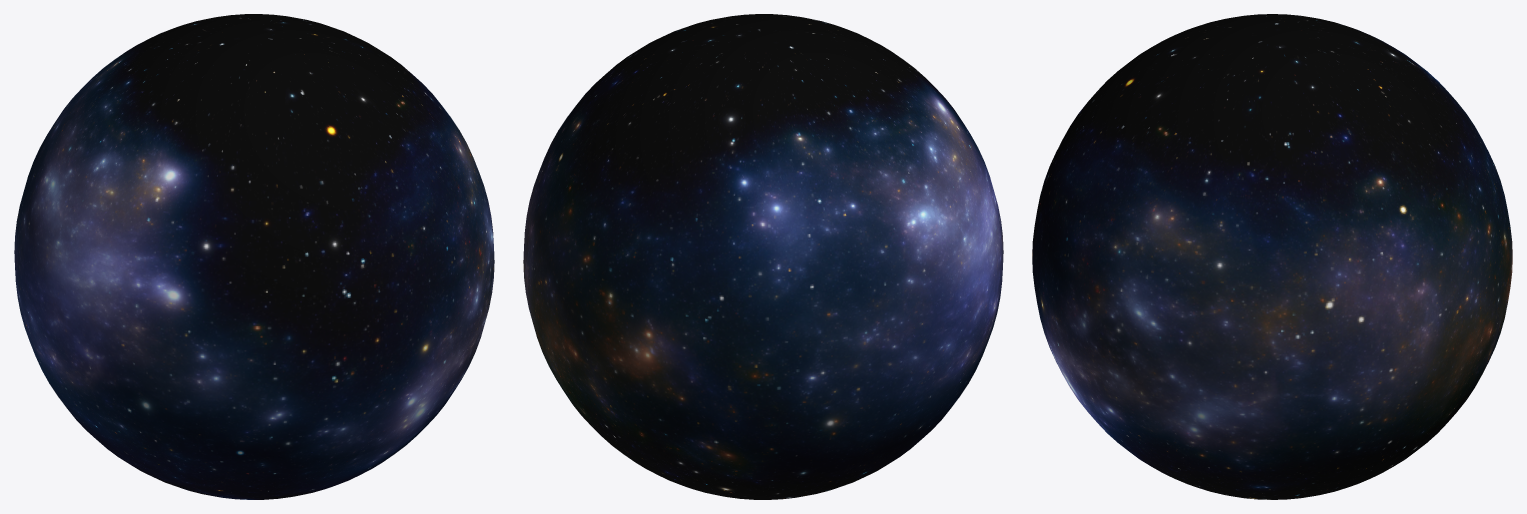
File: background.obj
3 renders of one model, left to right at view 1: azimuth 30°, elevation 25°; view 2: azimuth 150°, elevation 25°; view 3: azimuth 270°, elevation 25°, orthographic.
Visible parts, largest first — view 1: Earth; view 2: Earth; view 3: Earth.
Boxes of the visible parts, left/top/right/bottom form: Earth: left=14, top=14, right=494, bottom=499; Earth: left=523, top=14, right=1003, bottom=499; Earth: left=1032, top=14, right=1512, bottom=499.
Bounding box in the file's own units: 4.92 × 4.97 × 4.92.
Materials: 1 (1 with a texture image).
